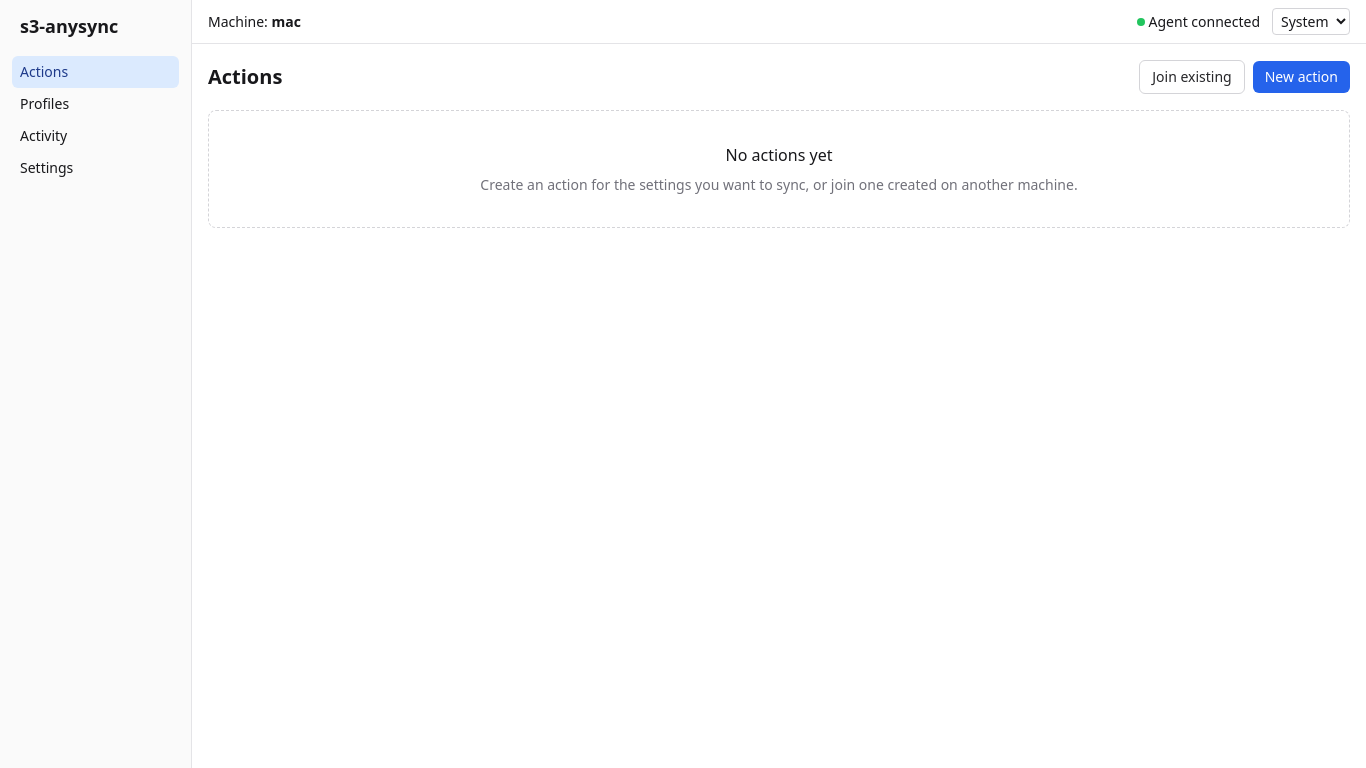
Test: Test connection failure closes the dialog and shows a toast
The image size is (1366, 768).
What coordinates should you click on to do the following:
click the button "Profiles"
I would click on:
 (96, 104)
Its box is [12,88,179,120].
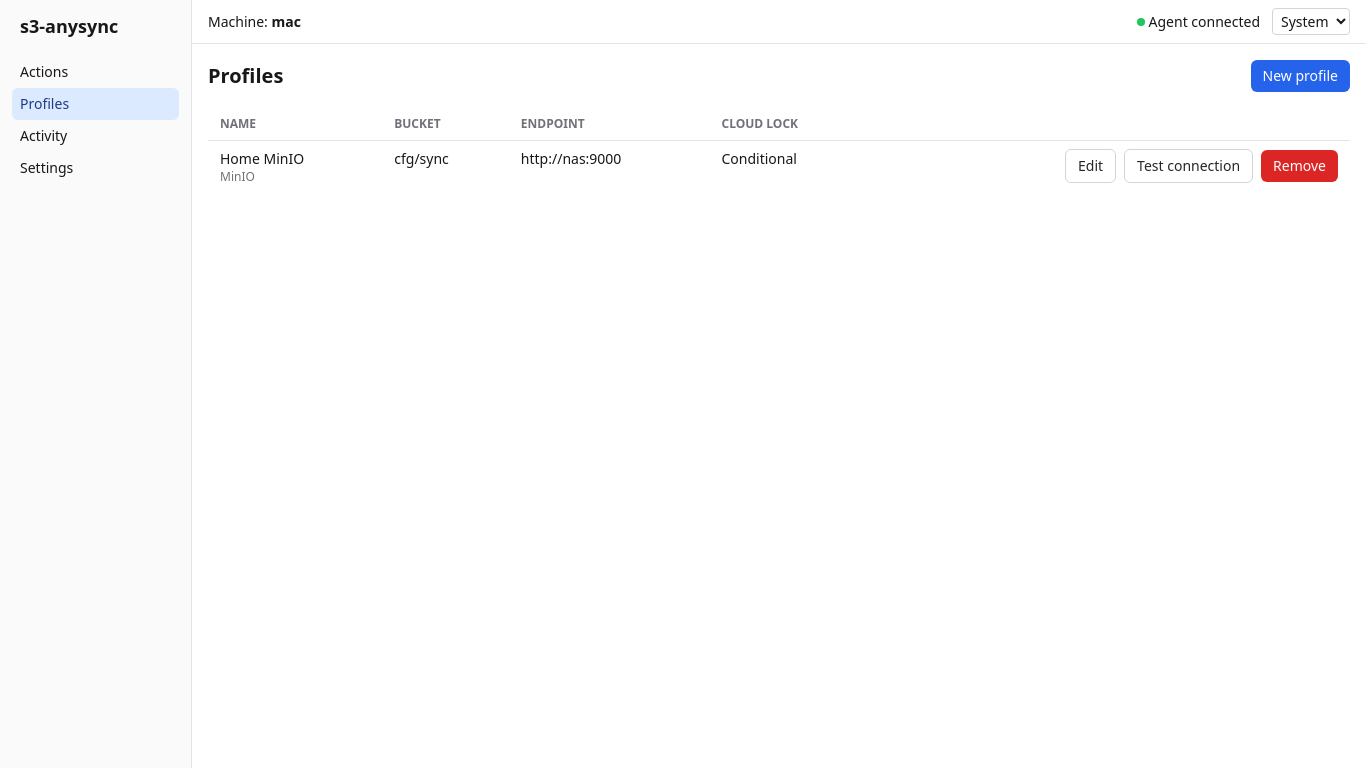
What coordinates should you click on to do the following:
click the button with aria-label "Test connection Home MinIO"
I would click on:
 (1189, 166)
Its box is [1124,149,1253,183].
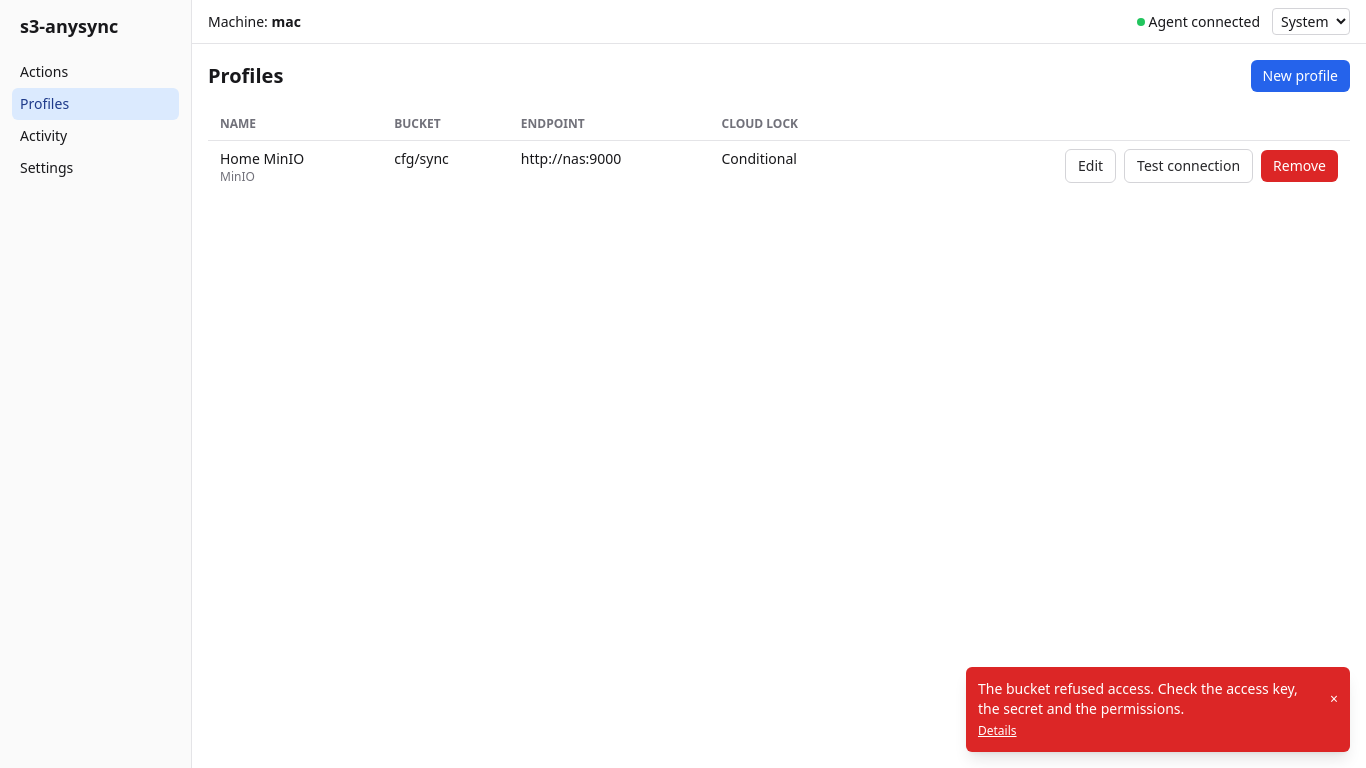
Expected: the text "The bucket refused access" is shown, [978,679,1298,718]
